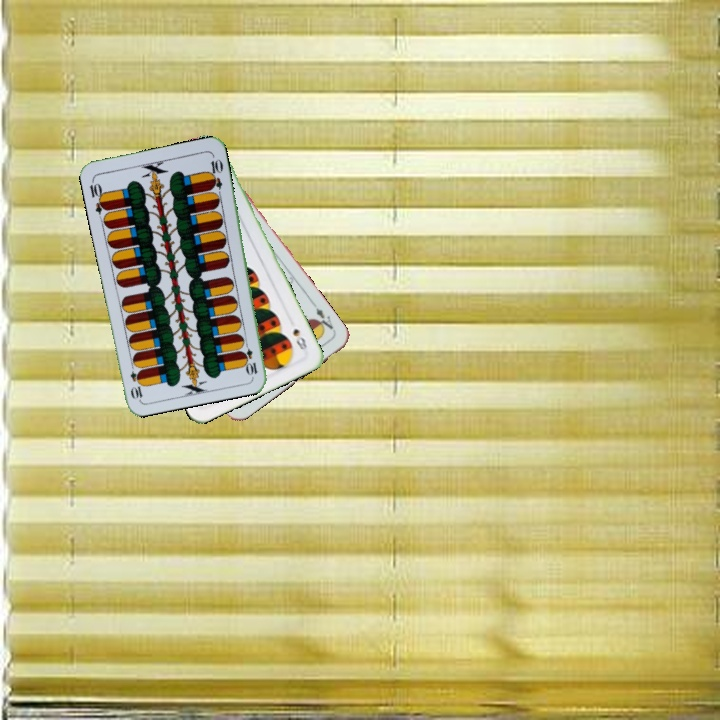E10: (86, 176, 110, 216), (240, 337, 260, 378)
EA: (310, 304, 338, 335)
S8: (289, 325, 310, 352)
